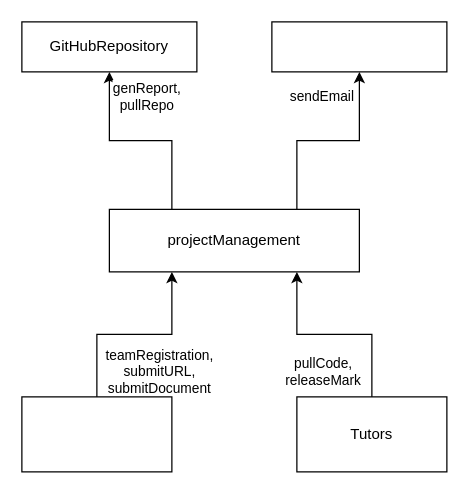
Some shapes in this 469 by 494 pixel diagram are drawn without their labels. The shapes that lost their labels are listed below. From the top down, each one's centre as x and y in pixels, then its label:
(x=359, y=46): EmailNotification
(x=96, y=434): Students
